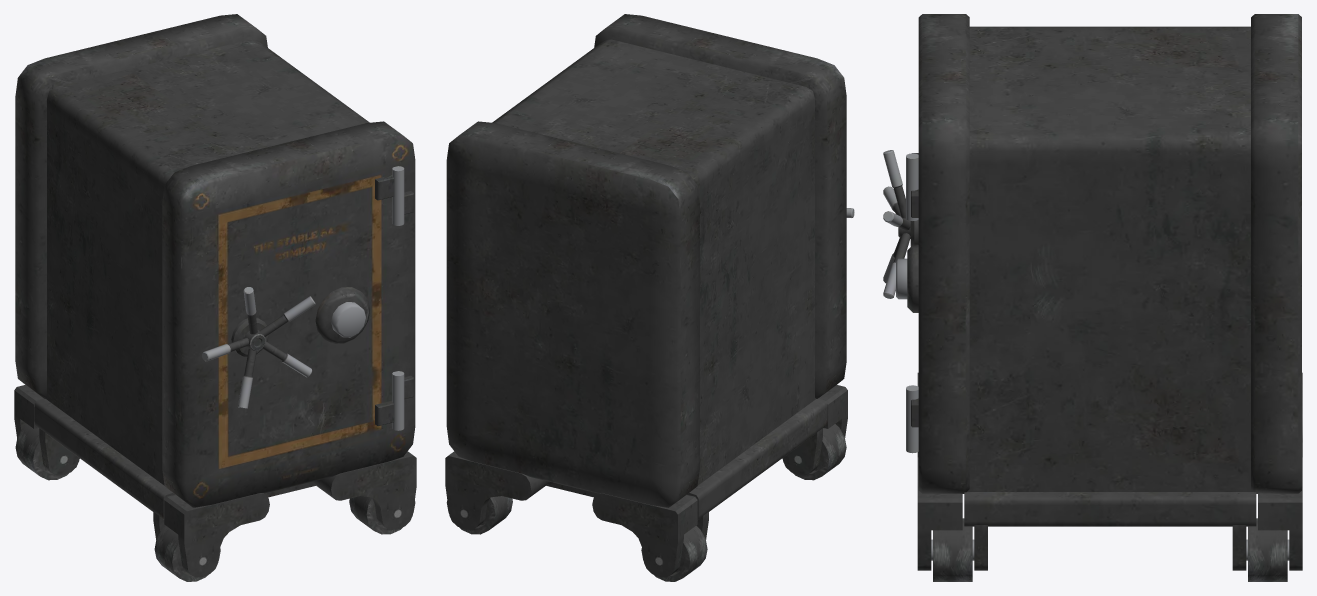
File: iron-safe.glb
The picture shows the model from 3 angles, left to right: view 1: azimuth 30°, elevation 25°; view 2: azimuth 150°, elevation 25°; view 3: azimuth 270°, elevation 25°; orthographic projection. The views are drawn at different scales.
Visible parts, largest first — view 1: Safe_LP_M_SafeFrontPanel_0; view 2: Safe_LP_M_SafeFrontPanel_0; view 3: Safe_LP_M_SafeFrontPanel_0.
Boxes of the visible parts, x1=… form: Safe_LP_M_SafeFrontPanel_0: x1=14, y1=14, x2=416, y2=581; Safe_LP_M_SafeFrontPanel_0: x1=445, y1=14, x2=854, y2=581; Safe_LP_M_SafeFrontPanel_0: x1=883, y1=14, x2=1302, y2=581.
Size of the model in its own units: 0.5691 by 0.9 by 0.7503.
Materials: 1 (1 with a texture image).
